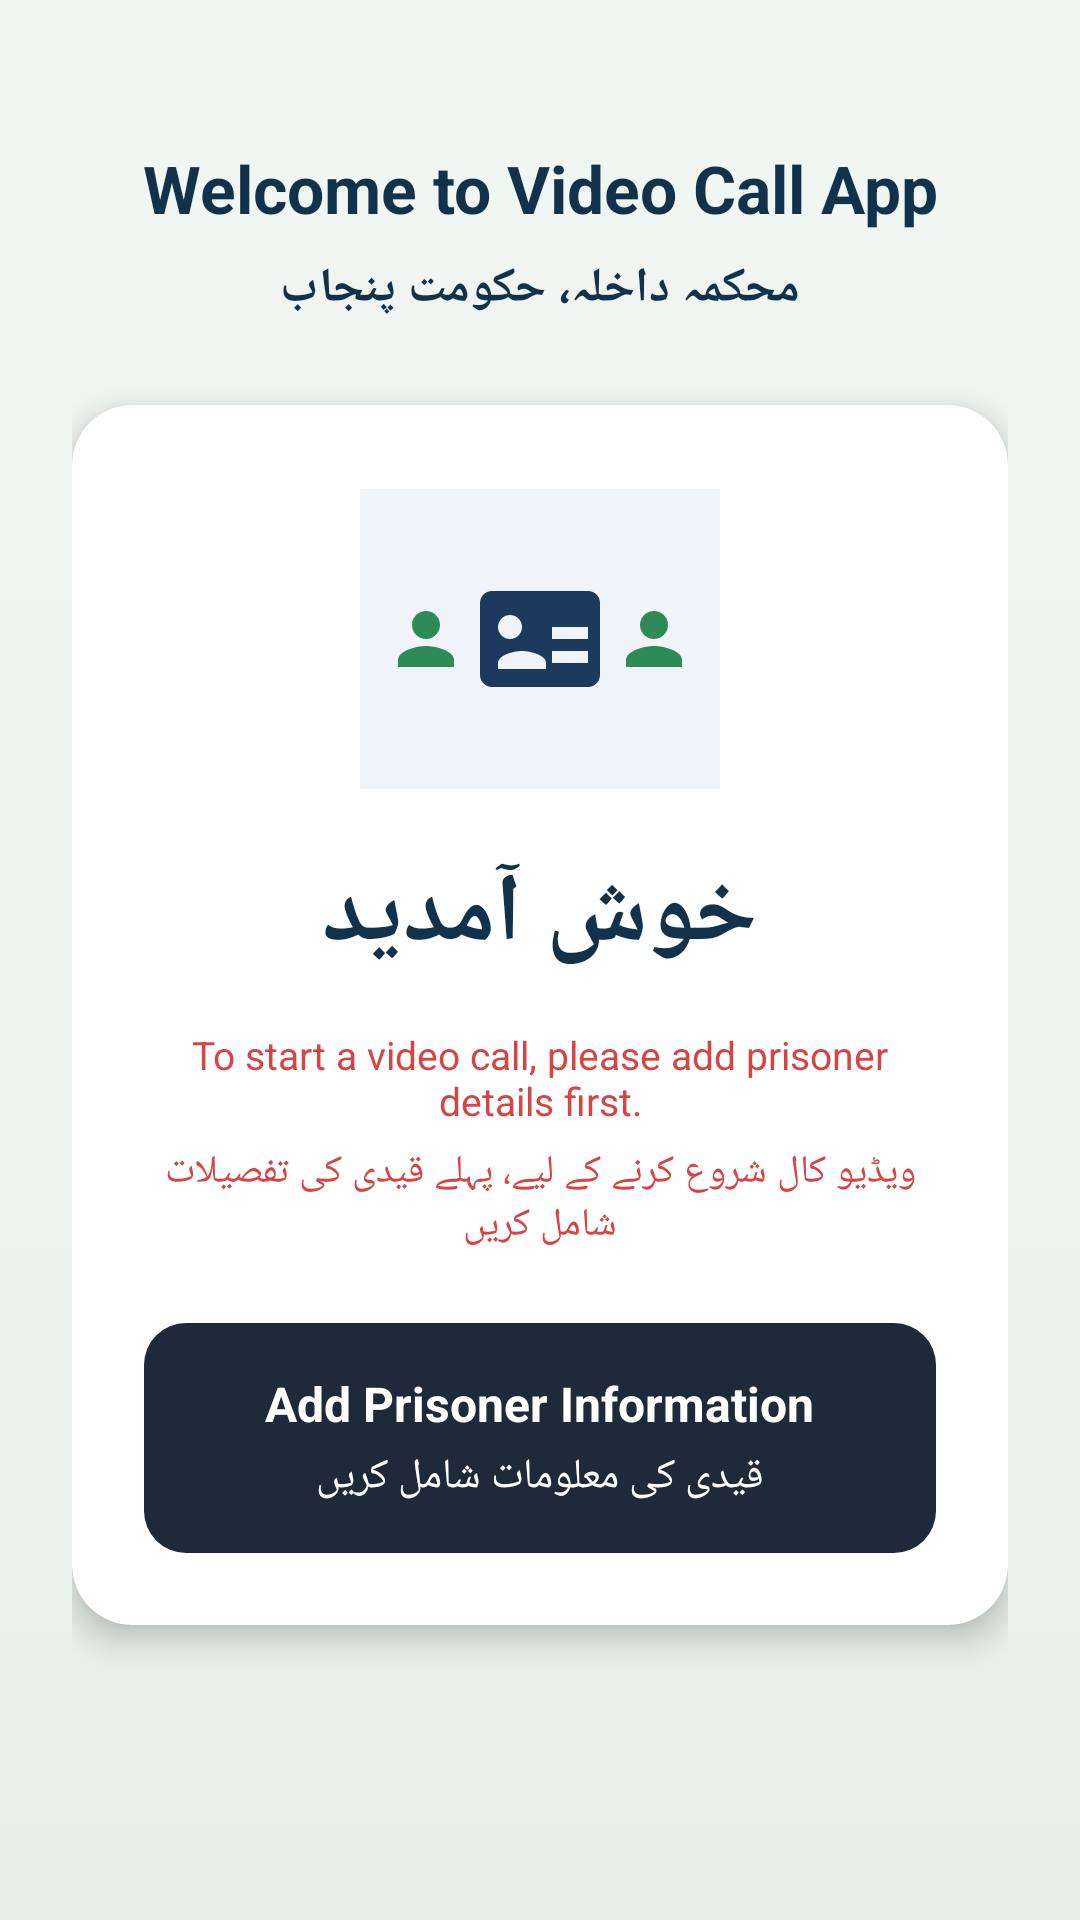

Screen size 1080 × 1920. Icon name, then its box in pixels as (left=x1, top=y1, right=x2, bottom=y2):
id card: (left=480, top=591, right=600, bottom=687)
person: (left=398, top=611, right=454, bottom=667), (left=626, top=611, right=682, bottom=667)
